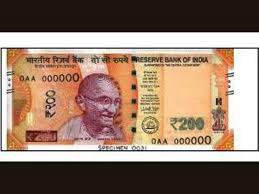twoHundred: (18, 67, 215, 136)
